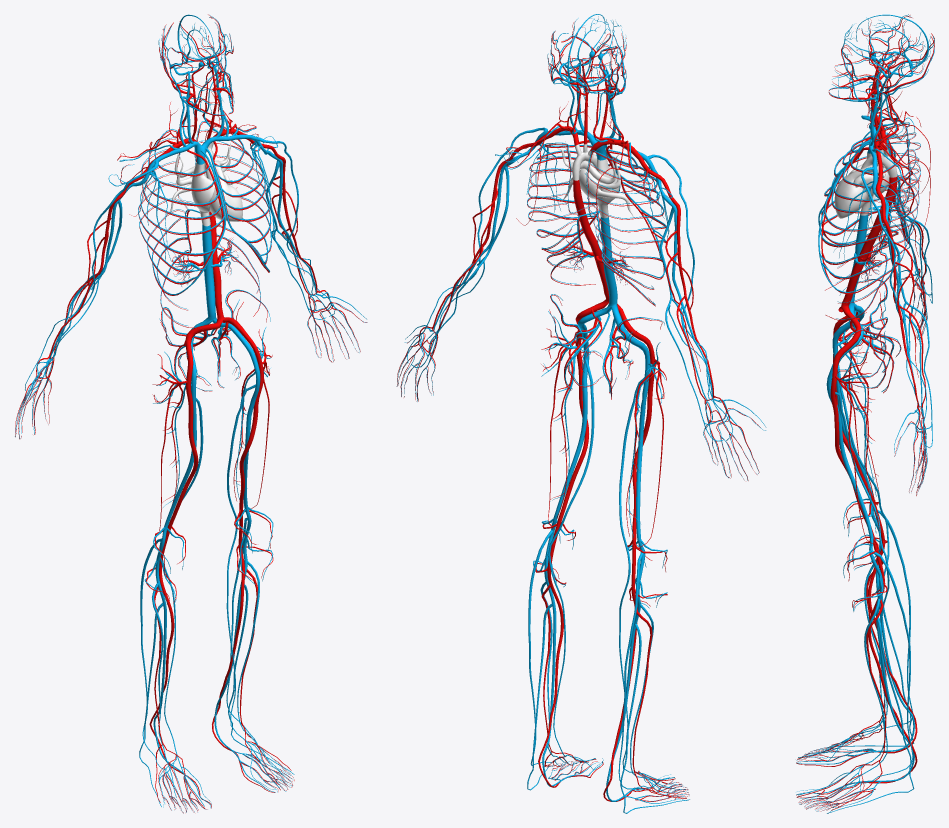
The model's file is G_MaleBody_Cardiovascular_2.fbx.
The picture shows the model from 3 angles, left to right: view 1: azimuth 30°, elevation 25°; view 2: azimuth 150°, elevation 25°; view 3: azimuth 270°, elevation 25°; orthographic projection. The views are drawn at different scales.
Parts seen in each view (by area): view 1: G_MaleBody_Cardiovascular_VeinBlue_2, G_MaleBody_Cardiovascular_VeinRed_2, G_MaleBody_Cardiovascular_Heart_2; view 2: G_MaleBody_Cardiovascular_VeinBlue_2, G_MaleBody_Cardiovascular_VeinRed_2, G_MaleBody_Cardiovascular_Heart_2; view 3: G_MaleBody_Cardiovascular_VeinBlue_2, G_MaleBody_Cardiovascular_VeinRed_2, G_MaleBody_Cardiovascular_Heart_2.
Boxes of the visible parts, box(x1,y1,x2,y2) form: G_MaleBody_Cardiovascular_VeinBlue_2: box(15, 14, 367, 812); G_MaleBody_Cardiovascular_VeinRed_2: box(15, 14, 366, 813); G_MaleBody_Cardiovascular_Heart_2: box(167, 142, 242, 226); G_MaleBody_Cardiovascular_VeinBlue_2: box(396, 14, 766, 813); G_MaleBody_Cardiovascular_VeinRed_2: box(397, 22, 760, 801); G_MaleBody_Cardiovascular_Heart_2: box(557, 141, 633, 218); G_MaleBody_Cardiovascular_VeinBlue_2: box(796, 14, 934, 813); G_MaleBody_Cardiovascular_VeinRed_2: box(796, 15, 934, 811); G_MaleBody_Cardiovascular_Heart_2: box(834, 133, 897, 223).
Size of the model in its own units: 86.72 by 181 by 29.78.
